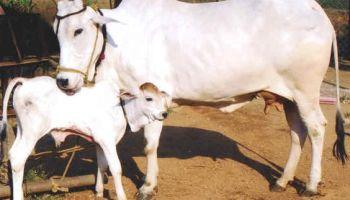cow: (1, 0, 335, 199)
